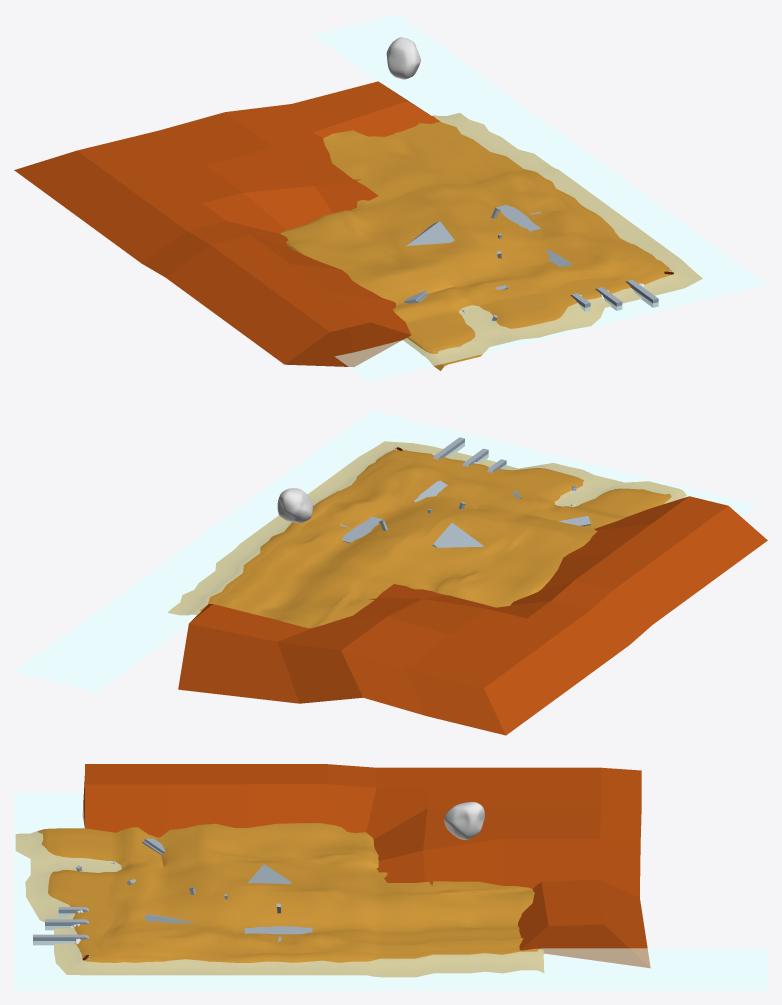
Rendered from The_Island.fbx.
3 renders of one model, top to bottom at view 1: azimuth 30°, elevation 25°; view 2: azimuth 150°, elevation 25°; view 3: azimuth 270°, elevation 25°, orthographic. The views are drawn at different scales.
Parts seen in each view (by area): view 1: Plane, Area_Start, WaterChunk_Area=Start, Cube.015, Cube.008; view 2: Plane, Area_Start, WaterChunk_Area=Start, Cube.015, Cube.008; view 3: Area_Start, Plane, WaterChunk_Area=Start, Cube.015, Cube.011, Sand_Long, Cube.008.
Boxes of the visible parts, x1,y1,x2,y2 form: Plane: (14, 81, 439, 366); Area_Start: (280, 113, 702, 370); WaterChunk_Area=Start: (313, 14, 767, 381); Cube.015: (386, 37, 420, 79); Cube.008: (406, 221, 454, 245); Plane: (178, 496, 767, 735); Area_Start: (168, 441, 686, 628); WaterChunk_Area=Start: (14, 410, 757, 692); Cube.015: (277, 488, 312, 523); Cube.008: (432, 523, 484, 547); Area_Start: (15, 823, 544, 977); Plane: (82, 764, 650, 967); WaterChunk_Area=Start: (14, 792, 767, 990); Cube.015: (444, 802, 484, 839); Cube.011: (244, 926, 312, 941); Sand_Long: (33, 934, 88, 945); Cube.008: (248, 864, 291, 883).
Bounding box in the file's own units: 2162 × 686 × 3100.
